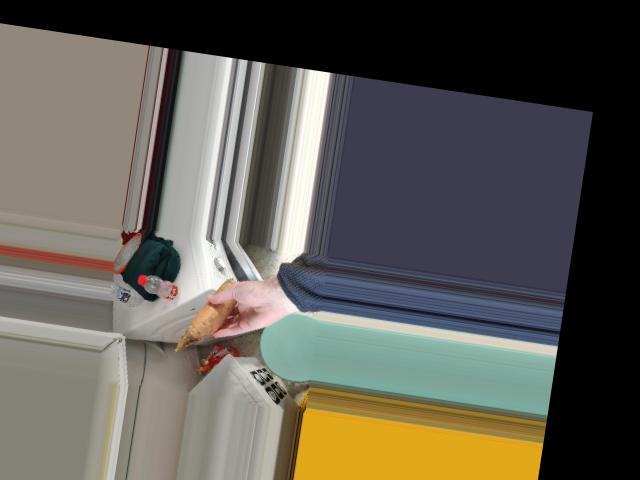sweet_potato: (191, 282, 234, 338)
